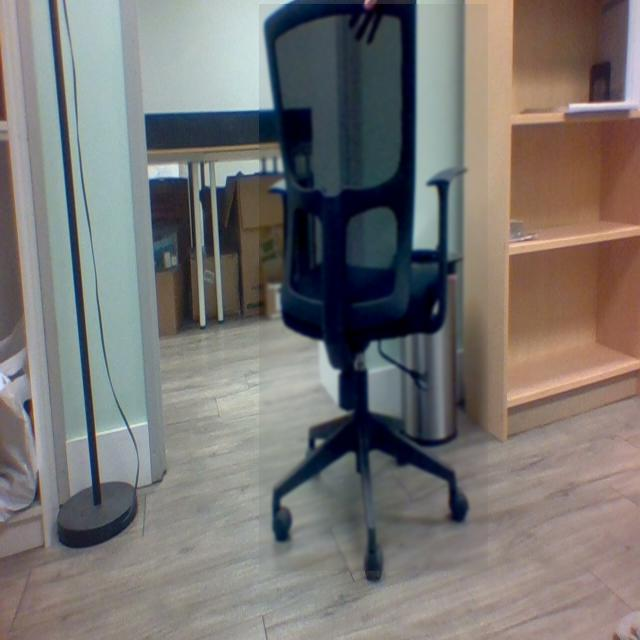black-chair: (259, 4, 489, 572)
